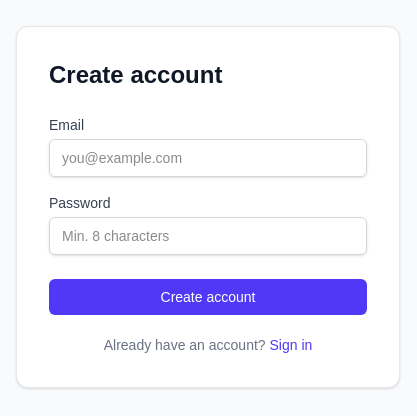
Scenario: SignupForm › validates minimum password length
Type "user@test.com" into the field labelled "Email". click: {"x": 208, "y": 158}
box: [49,139,367,177]
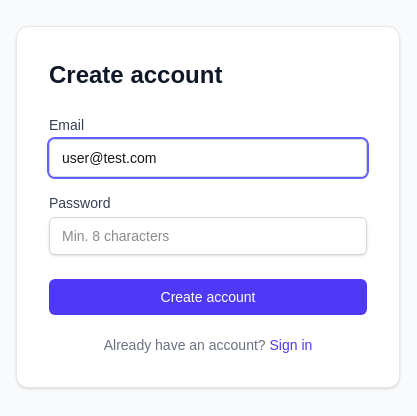
Type "short" into the password field labelled "Password". click: {"x": 208, "y": 236}
box: [49,217,367,255]
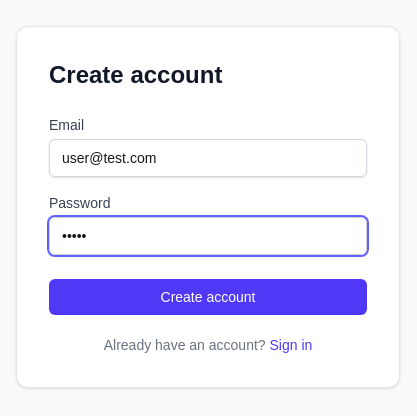
Click the button "Create account". click: {"x": 208, "y": 297}
box: [49,279,367,315]
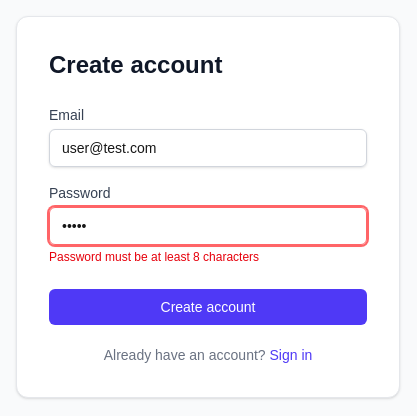
Expected: the text "Password must be at least 8 characters" is shown, [49,250,259,264]
